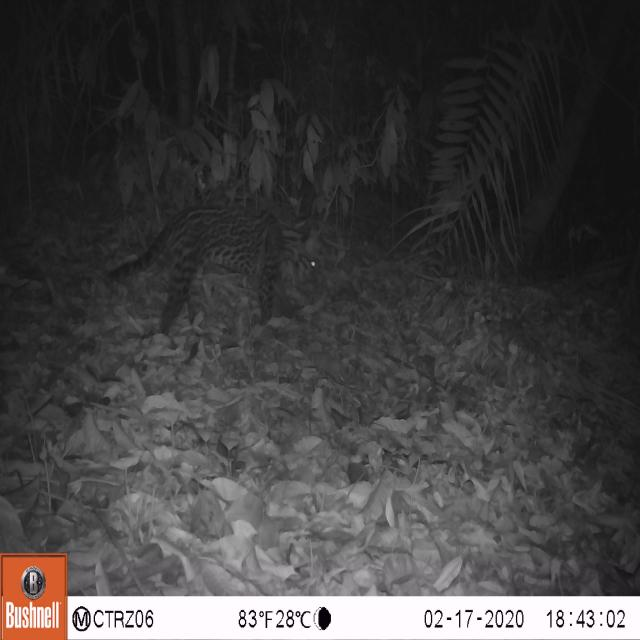Ocelote: (90, 184, 338, 342)
